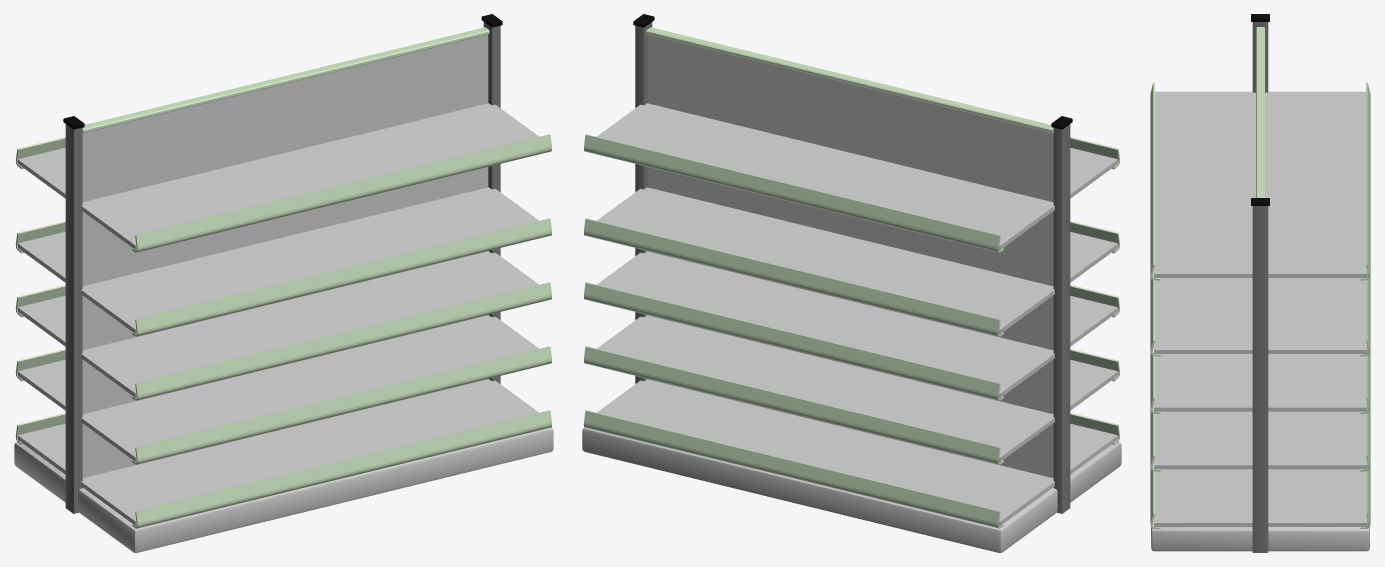
The model's file is SM_shelf_01.fbx.
3 views of the same model, side by side, from view 1: azimuth 30°, elevation 25°; view 2: azimuth 150°, elevation 25°; view 3: azimuth 270°, elevation 25° (orthographic). The views are drawn at different scales.
Visible parts, largest first — view 1: Object021; view 2: Object021; view 3: Object021.
Boxes of the visible parts, x1=… form: Object021: x1=14, y1=14, x2=553, y2=552; Object021: x1=582, y1=14, x2=1121, y2=552; Object021: x1=1150, y1=14, x2=1370, y2=552.
Size of the model in its own units: 265 by 229 by 130.
